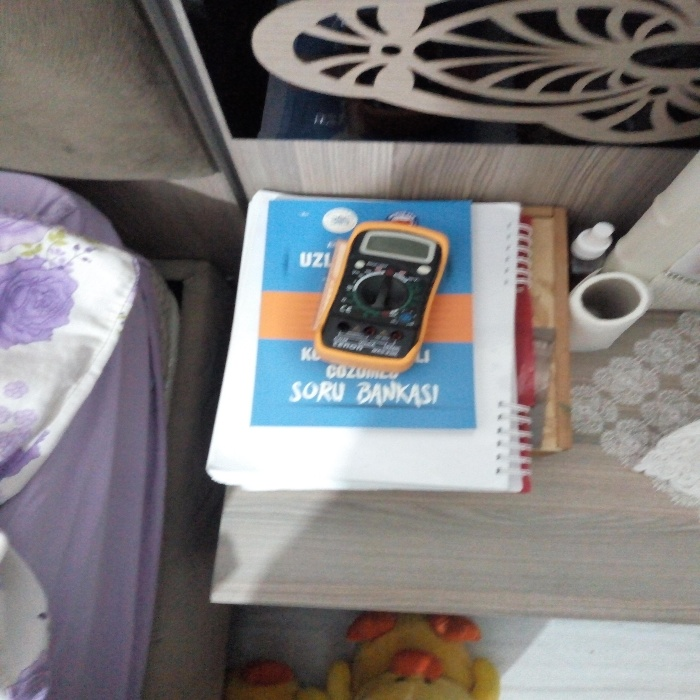multimetre: (307, 196, 439, 379)
